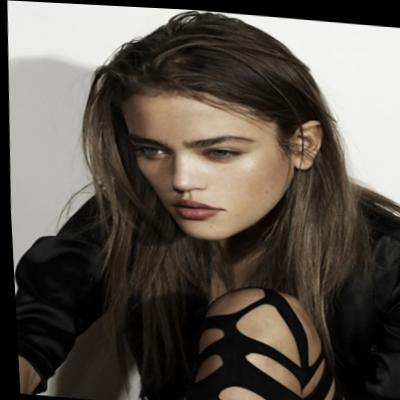netural: (116, 85, 295, 246)
